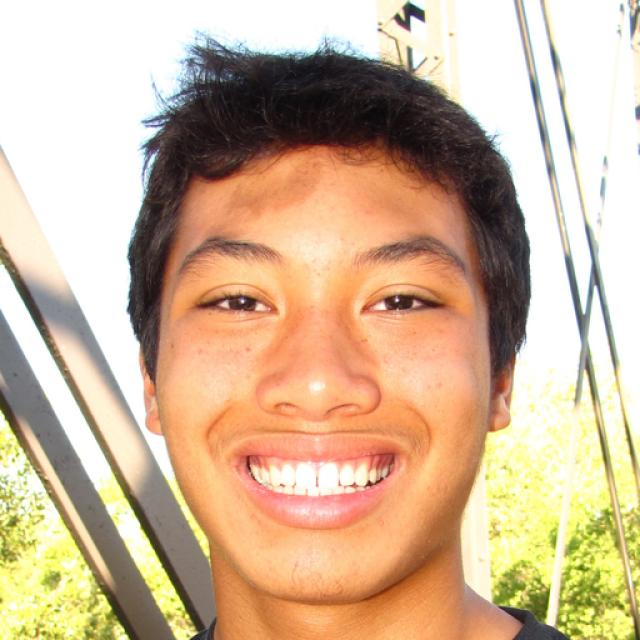Pigmentation: (225, 161, 326, 216)
